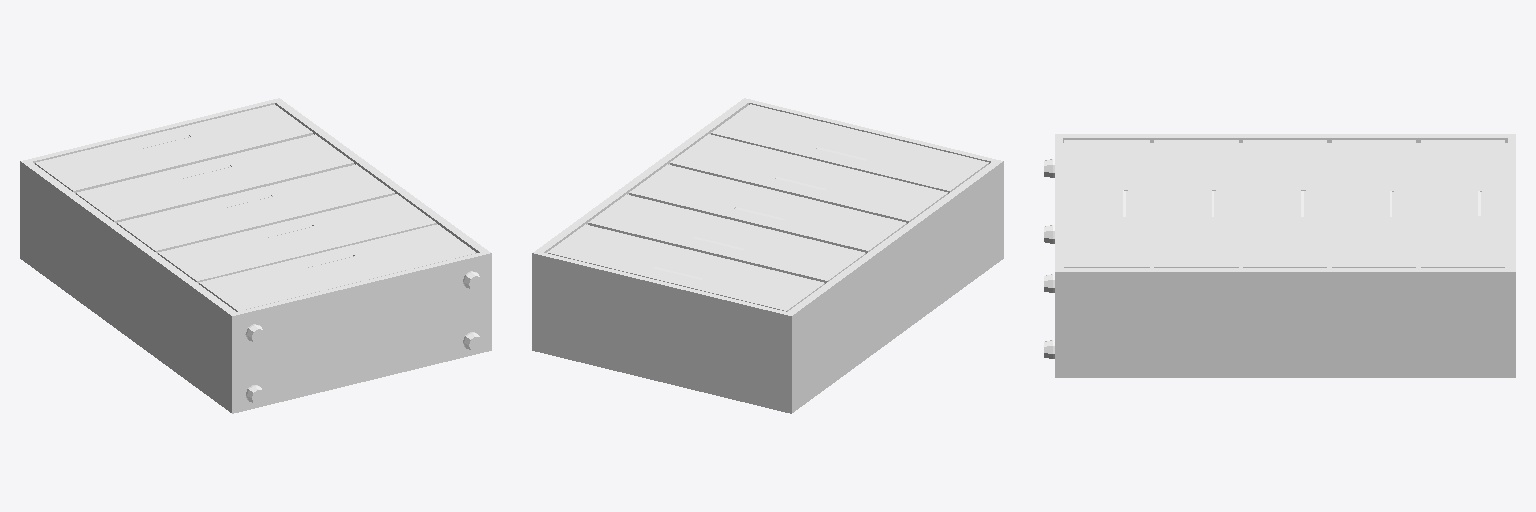
URDF robot description (cabinest_new.urdf):
<?xml version="1.0" ?>
<robot name="cabinest_new.urdf">
  <link name="baseLink">
    <inertial>
      <origin rpy="0 0 0" xyz="0 0 0"/>
       <mass value="0.0"/>
       <inertia ixx="0" ixy="0" ixz="0" iyy="0" iyz="0" izz="0"/>
    </inertial>
    <visual>
      <origin rpy="0 0 0" xyz="0 0 0"/>
      <geometry>
        <mesh filename="cabinest_new.obj" scale="1.0 1.0 1.0"/>
      </geometry>
      <material name="white">
       <color rgba="1 1 1 1"/>
     </material>
    </visual>
    <collision>
      <origin rpy="0 0 0" xyz="0 0 0"/>
      <geometry>
        <mesh filename="cabinest_new.obj" scale="1.0 1.0 1.0"/>
        <!-- You could also specify the collision (for the cabinest_new) with a "box" tag: -->
        <!-- <box size=".06 .06 .06"/> -->
      </geometry>
    </collision>
  </link>
</robot>
        

--- Render facts (derived) ---
3 views of the same robot in one strip: view 1: azimuth 30°, elevation 25°; view 2: azimuth 150°, elevation 25°; view 3: azimuth 270°, elevation 25° (orthographic).
Model cabinest_new.urdf with 1 links and 0 joints (none), rooted at baseLink, posed all joints at 0.
Visible links, largest first — view 1: baseLink; view 2: baseLink; view 3: baseLink.
Boxes of the visible links, box(x1,y1,x2,y2) form: baseLink: box(20, 98, 491, 413); baseLink: box(532, 98, 1003, 413); baseLink: box(1044, 134, 1515, 377).
Size in the robot's own frame: 1.38 by 2.01 by 0.4982 metres.
1 mesh visuals loaded from 1 distinct referenced files (1 OBJ).
